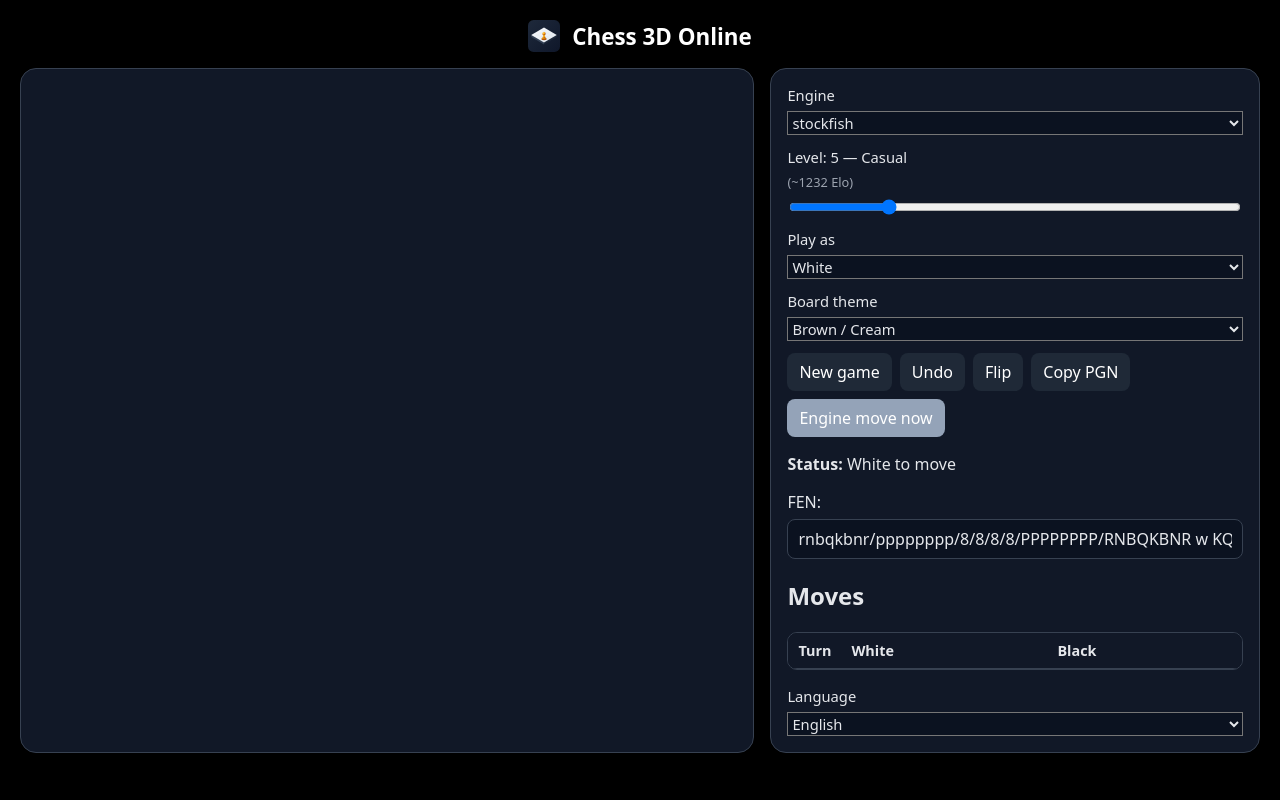
Scenario: App › downloads PGN when clipboard is unavailable
The image size is (1280, 800).
Click the button "Copy PGN". click: (1081, 372)
box: [1031,353,1130,391]
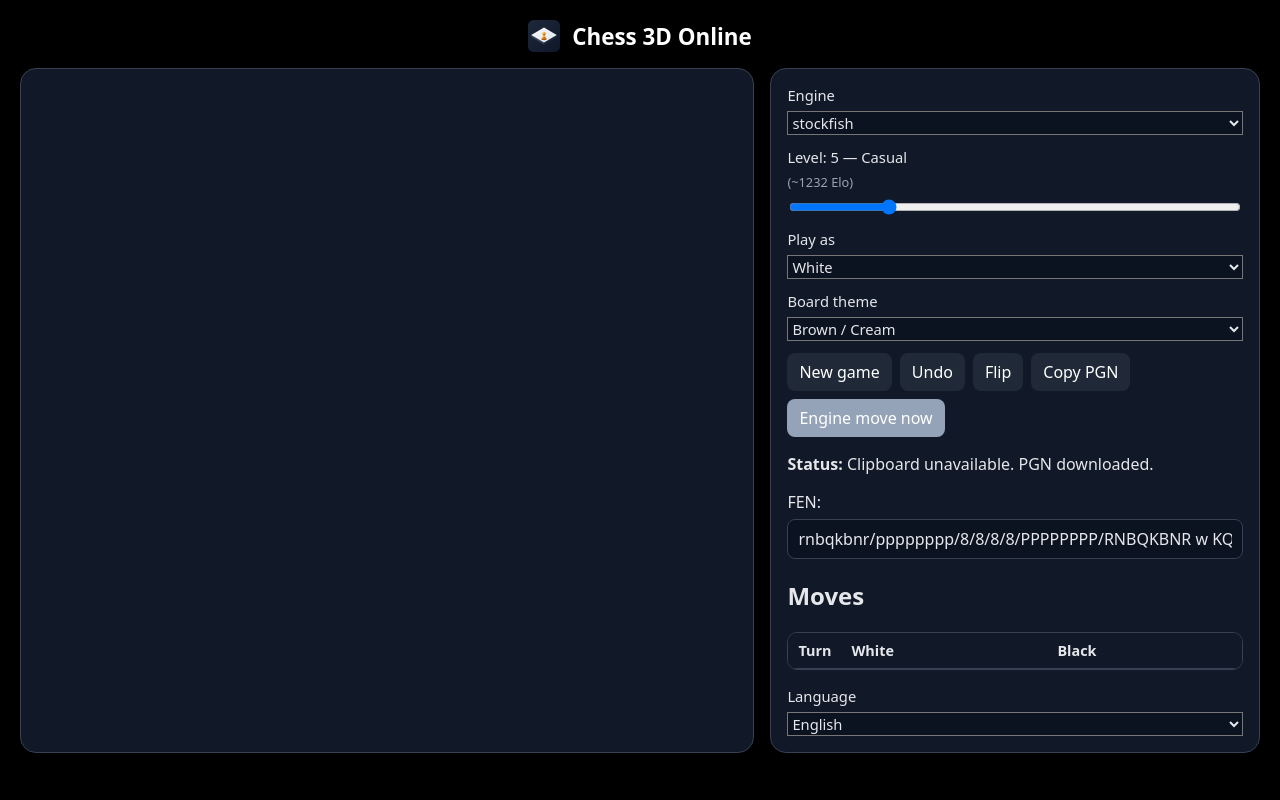
Expected: the text "Status: Clipboard unavailable. PGN downloaded." is shown, [787,453,1154,475]
